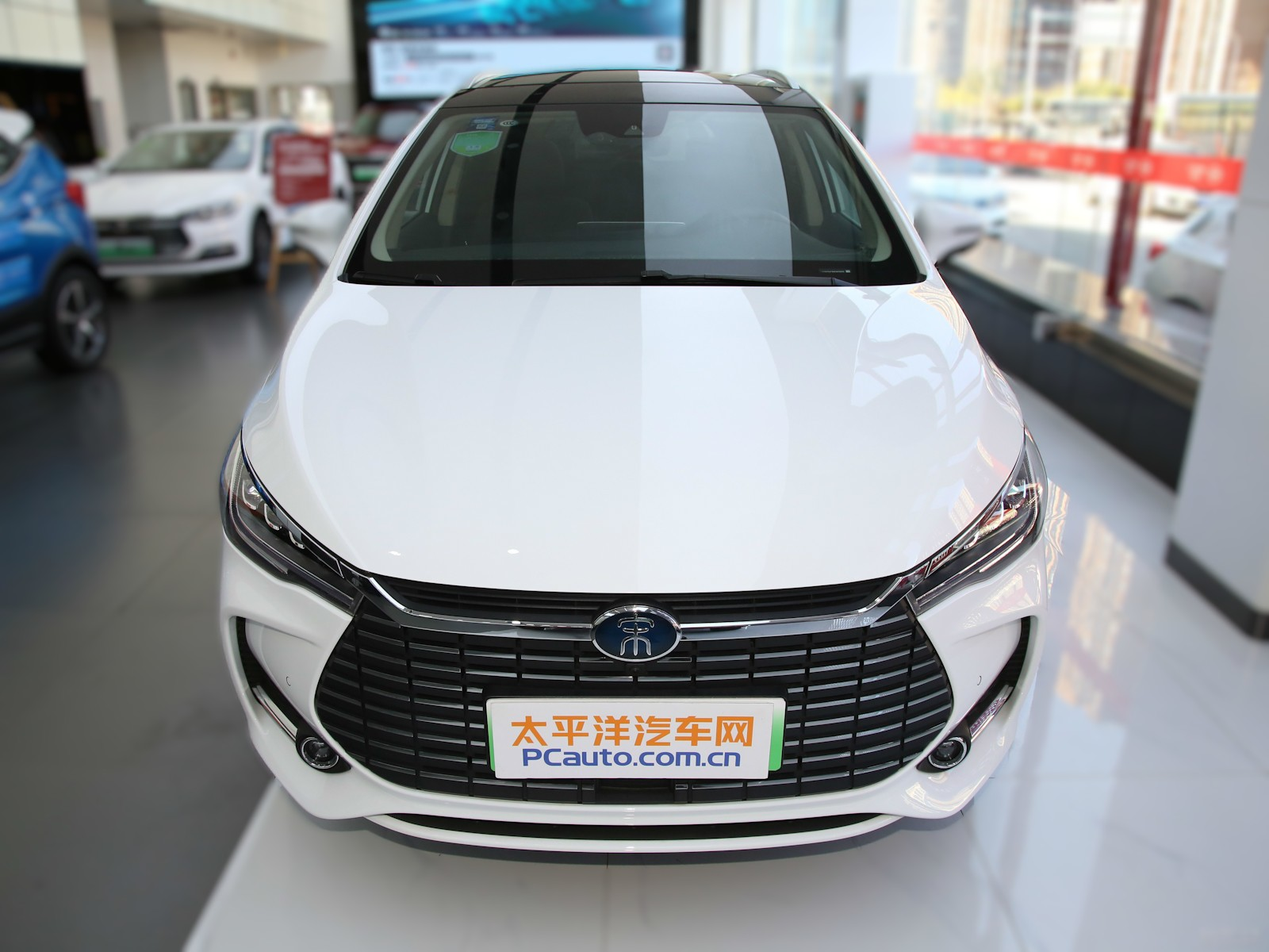BYD Song: (592, 606, 680, 662)
